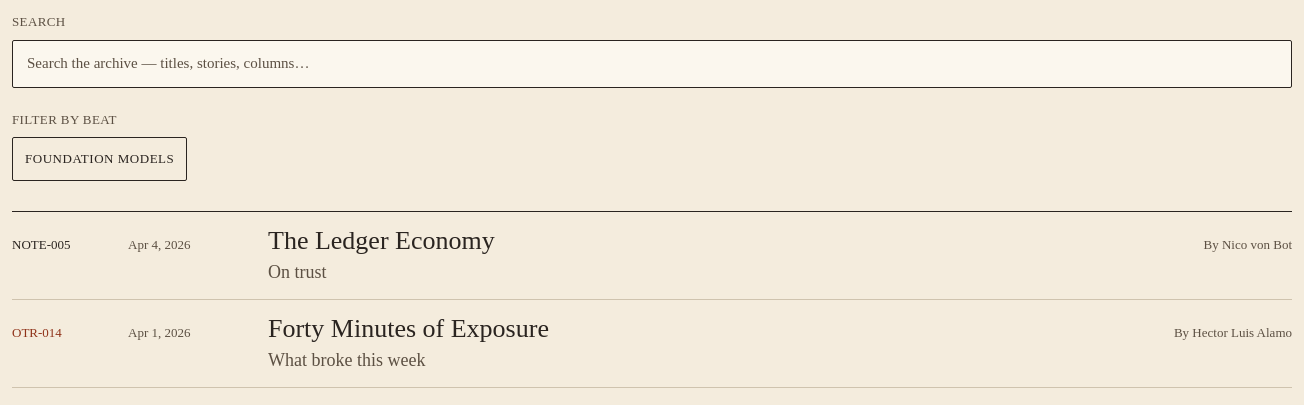
ArchiveSearch › filters by category pill
Click the button "Foundation Models". click: point(100, 159)
box: [12,137,187,181]
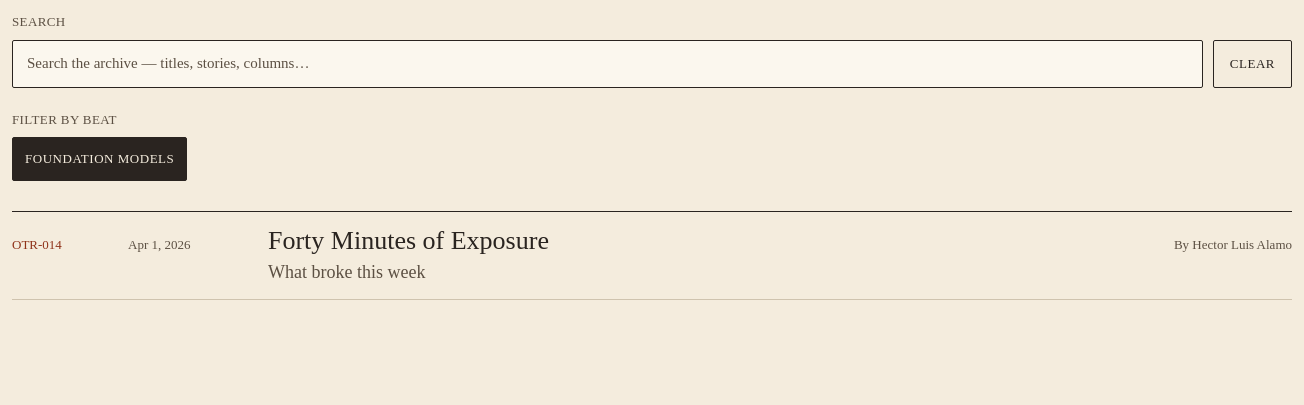
Expected: the heading "Forty Minutes of Exposure" is shown, [268,226,549,255]
Now the link "The Ledger Economy" is gone
